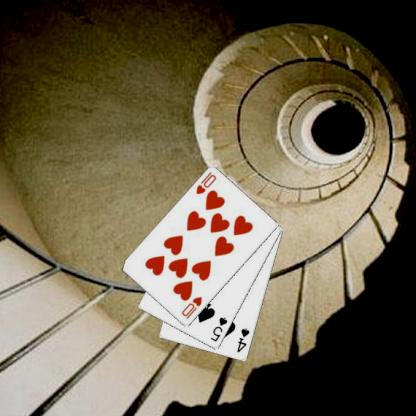10H: (193, 169, 218, 196), (179, 294, 203, 320)
4S: (234, 326, 251, 354)
5S: (208, 315, 229, 343)
